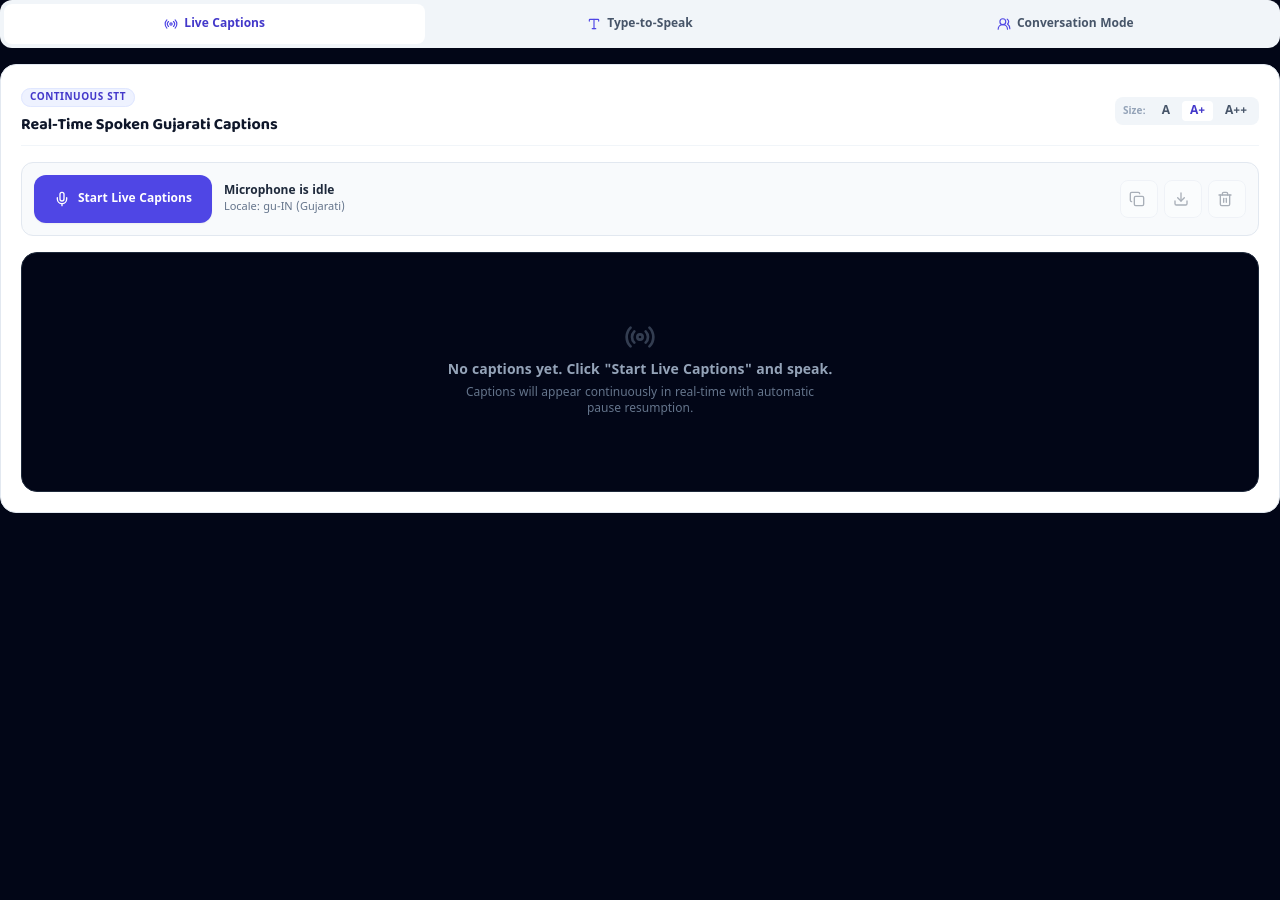
Test case: VoiceTools component › allows switching to Type-to-Speak, displays presets and allows saving custom phrases
The width and height of the screenshot is (1280, 900).
# Switch to Type-to-Speak
Click the tab "Type-to-Speak": (640, 24) [429,4,851,44]
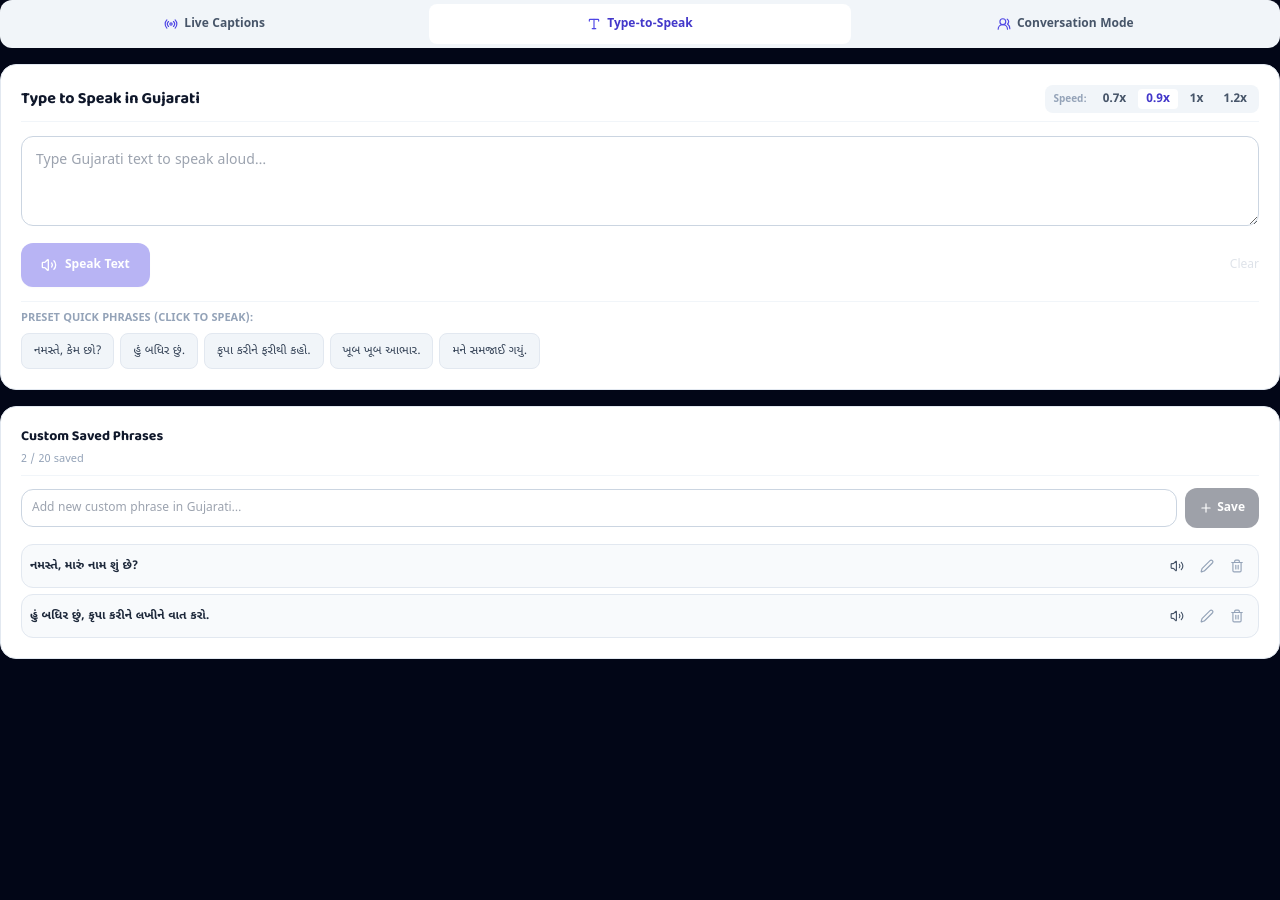
Result: the heading "Type to Speak in Gujarati" is shown at [21,87,200,111]
# Check custom phrase input
In the field with placeholder "Add new custom phrase in Gujarati...": (599, 508) [21,488,1177,526], type "નવું પરીક્ષણ વાક્ય"
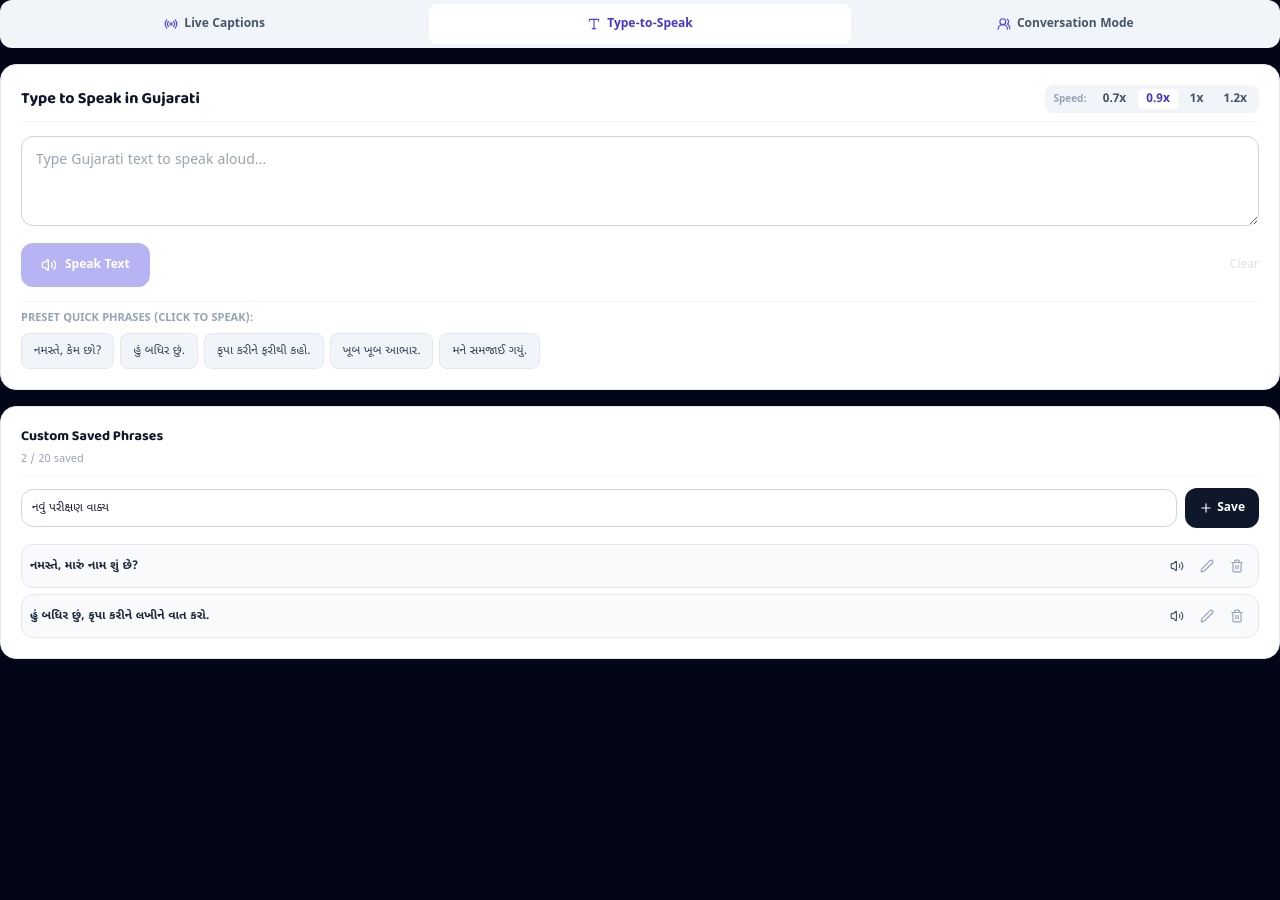
Click the button "Save": (1222, 508) [1185,488,1259,528]
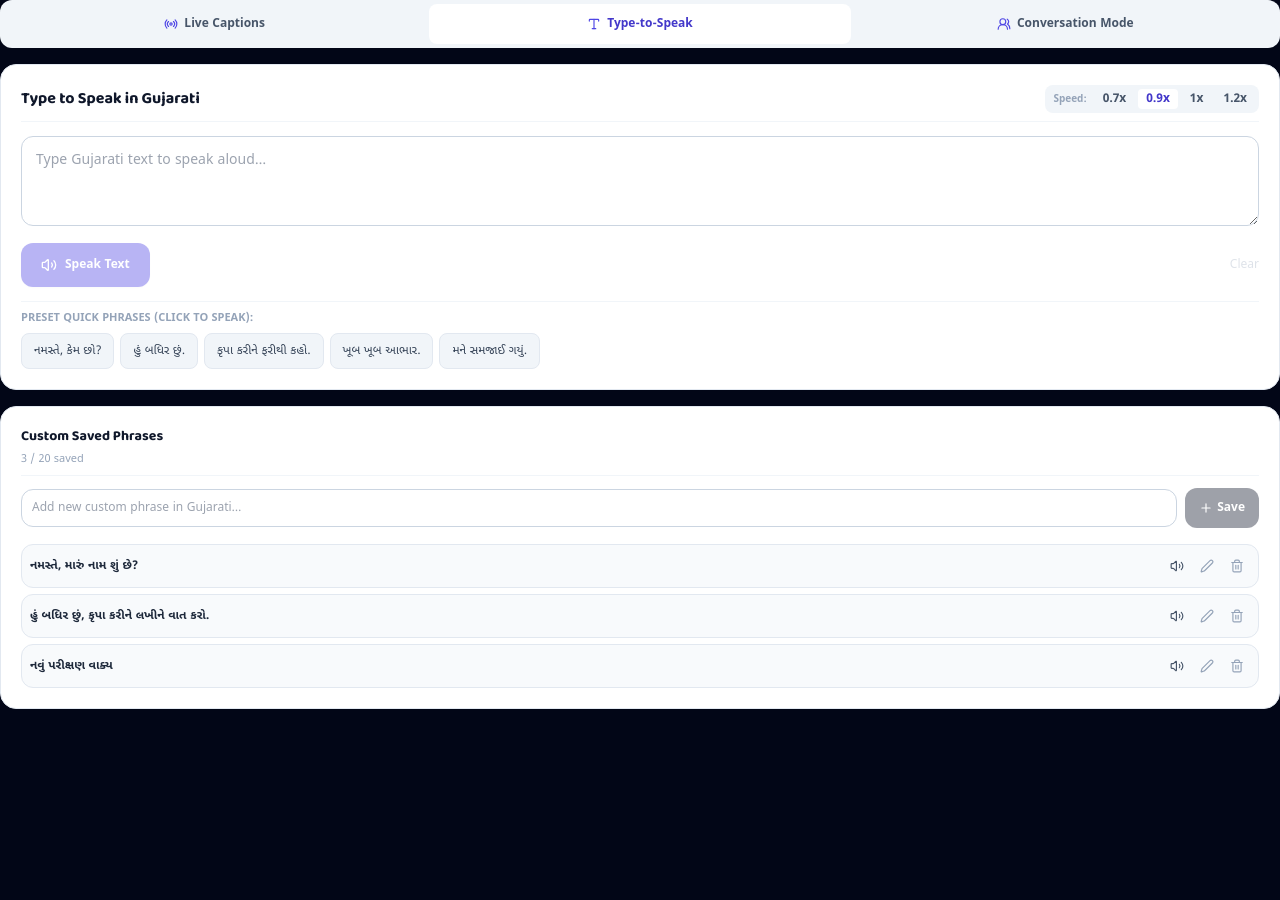
Result: the text "નવું પરીક્ષણ વાક્ય" is shown at [30,658,113,674]
